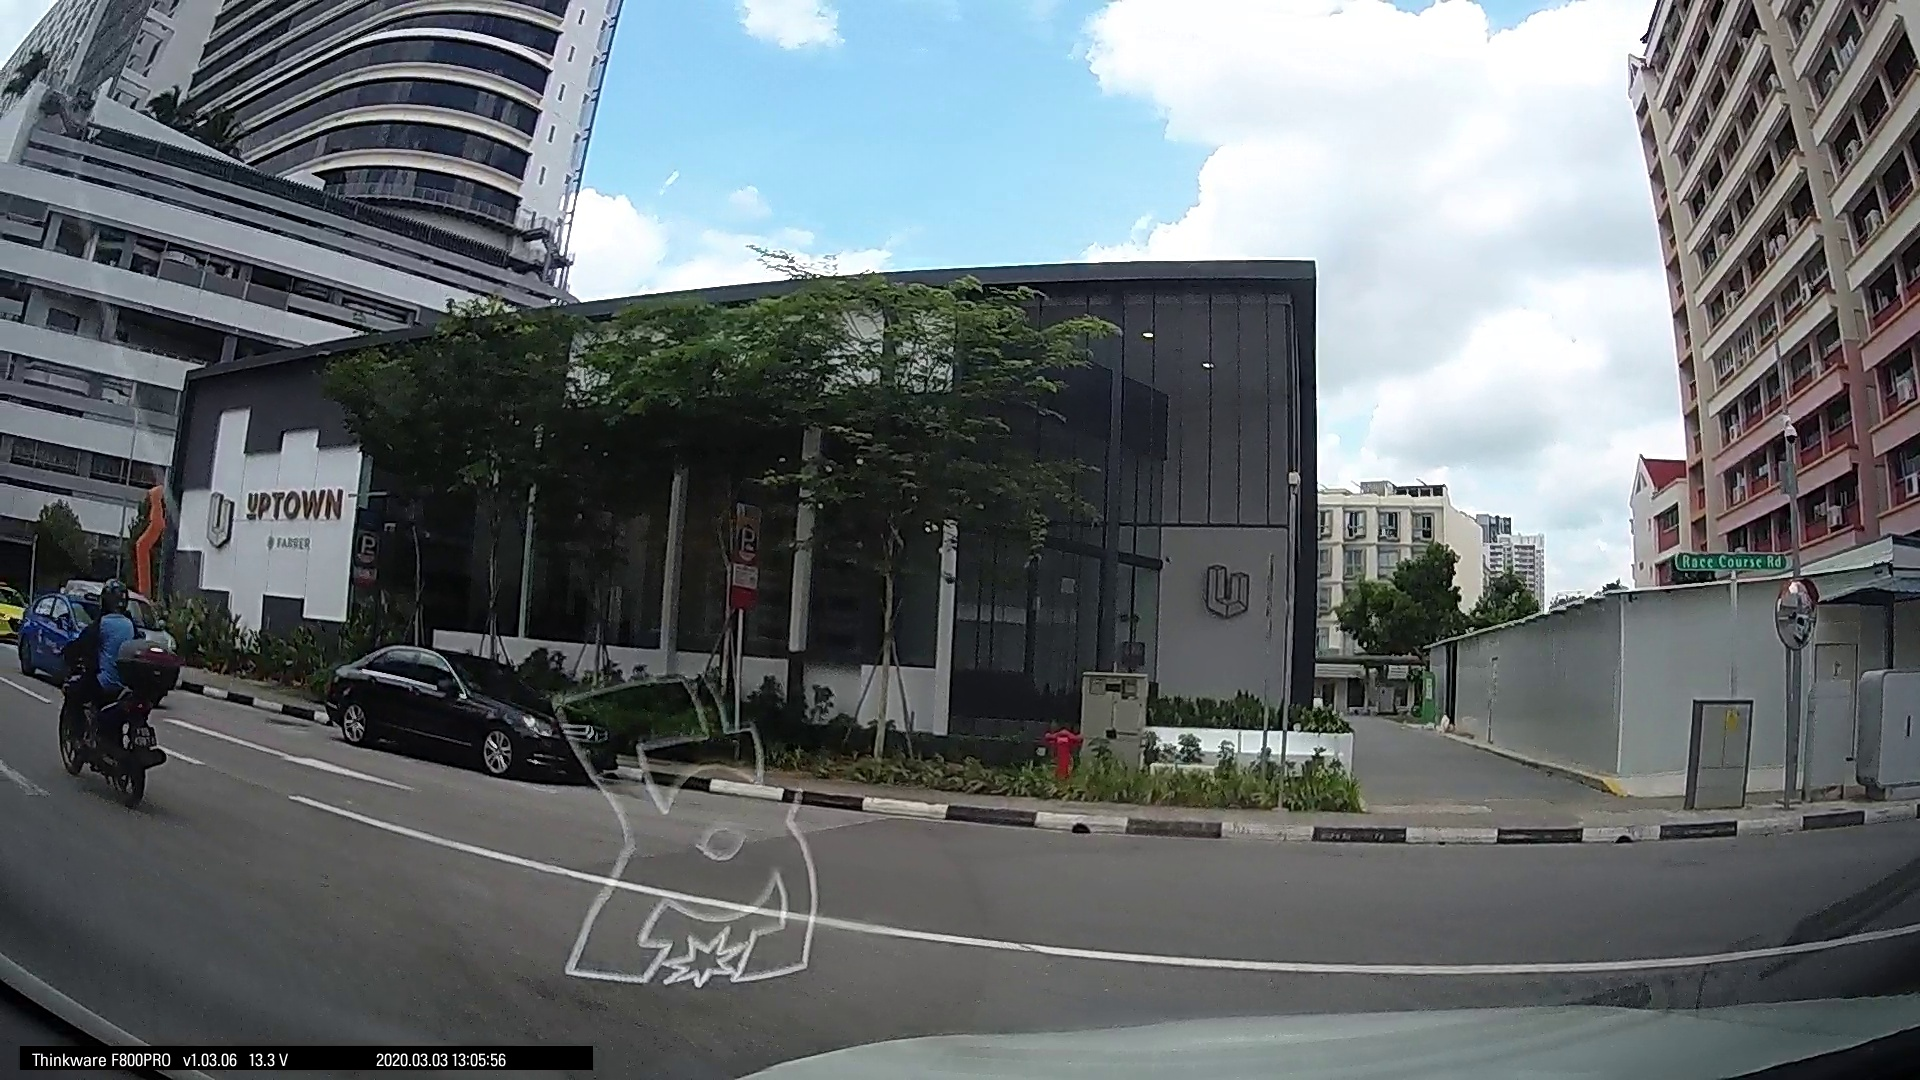Heavy Vehicle: (1382, 617, 1571, 802)
Light Vehicle: (16, 473, 647, 1000), (632, 647, 843, 837)
